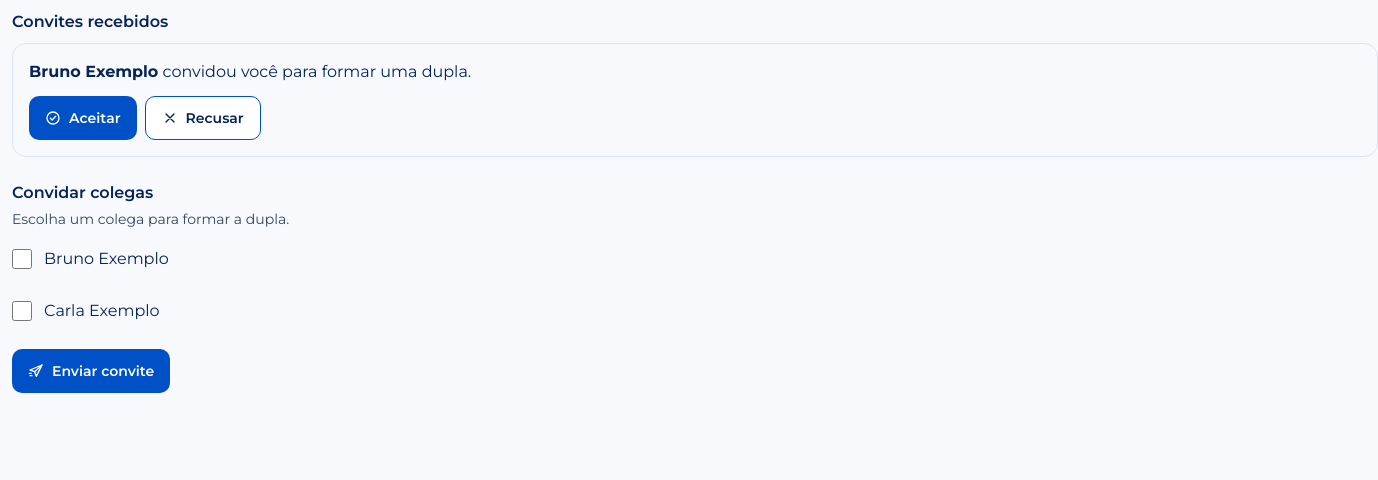
Test: ConvitesEquipe (US1) › em falha, mostra o erro do servidor e pede nova leitura dos dados
The image size is (1378, 480).
Step 1. Click the button with aria-label "Aceitar convite de Bruno Exemplo" → (83, 118), box x1=29 y1=96 x2=136 y2=140
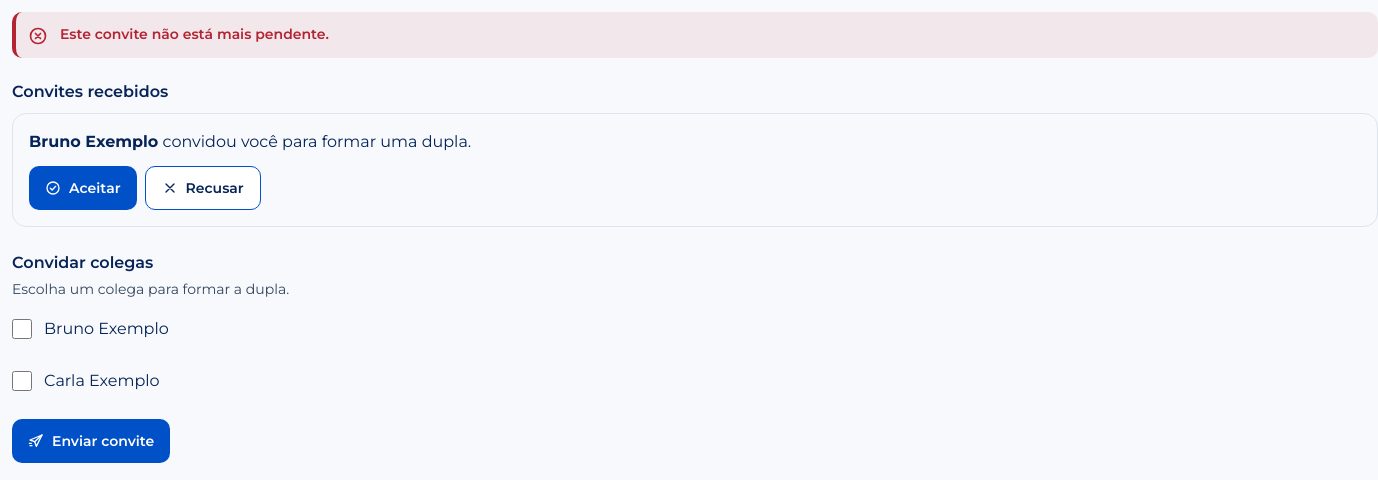
Check: the message shows "não está mais pendente", box x1=60 y1=25 x2=329 y2=43
